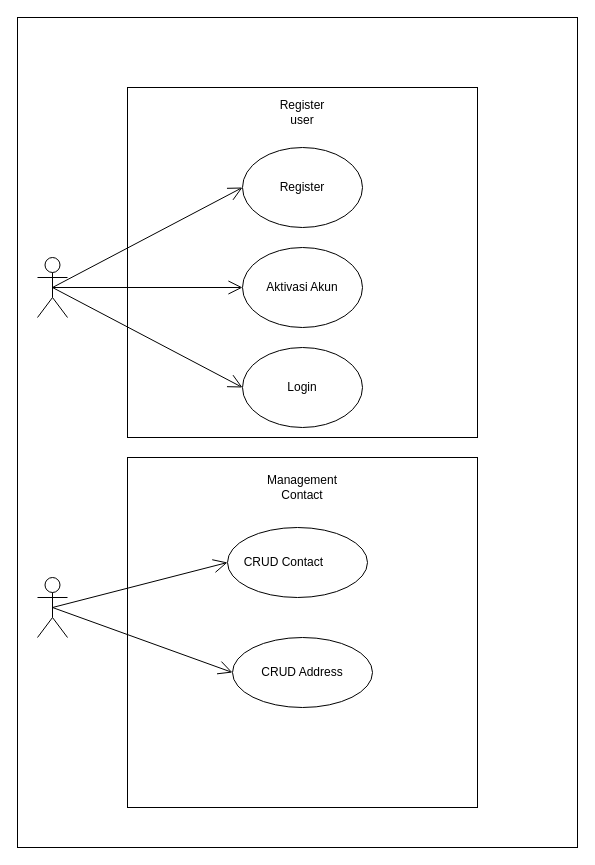
Image size: 595x865. Some labels were removed from this diagram. Each missing label, with the box of its shape:
Actor: (36, 576, 68, 638)
User: (36, 256, 68, 318)
